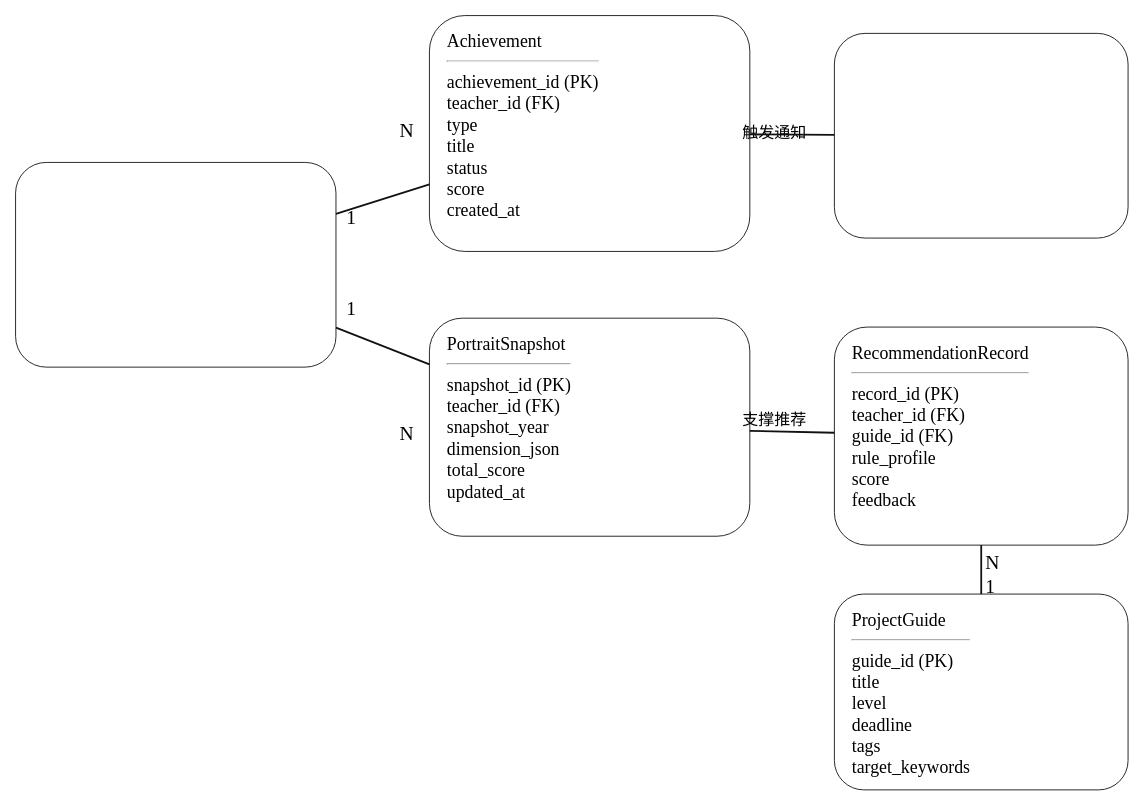
This 1144x805 diagram has some shape labels left out. The shapes that lost their labels are listed below. From the top down, each one's centre as x and y in pixels, then its label:
(x=980, y=135): Notification notice_id (PK) receiver_id (FK) type is_read created_at
(x=175, y=264): Teacher teacher_id (PK) user_id (FK) name college discipline research_interests
